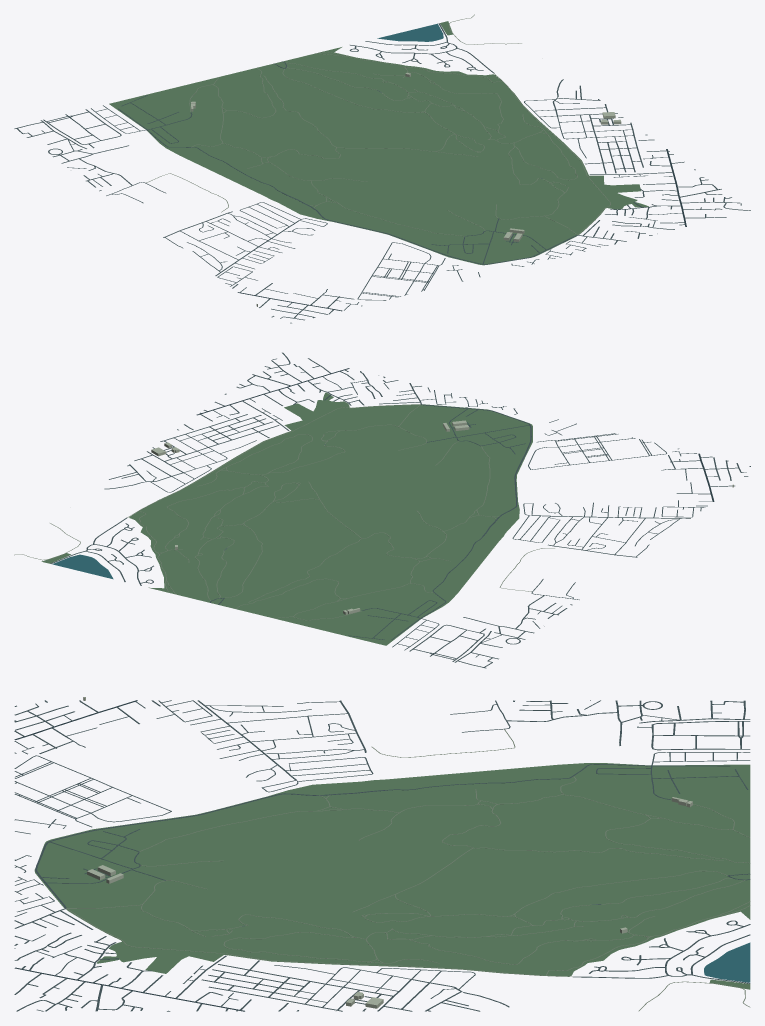
The picture shows the model from 3 angles, top to bottom: view 1: azimuth 30°, elevation 25°; view 2: azimuth 150°, elevation 25°; view 3: azimuth 270°, elevation 25°; orthographic projection. The views are drawn at different scales.
Visible parts, largest first — view 1: green, street, path, water; view 2: green, street, path, water; view 3: green, street, path, water, building, major.
Part boxes in pixels (left/top/right/bottom): green: left=109, top=21, right=648, bottom=265; street: left=14, top=23, right=750, bottom=323; path: left=146, top=14, right=610, bottom=236; water: left=377, top=23, right=443, bottom=41; green: left=41, top=392, right=532, bottom=645; street: left=50, top=352, right=750, bottom=668; path: left=14, top=404, right=554, bottom=620; water: left=52, top=554, right=113, bottom=579; green: left=34, top=763, right=750, bottom=989; street: left=14, top=700, right=750, bottom=1011; path: left=66, top=729, right=750, bottom=1011; water: left=704, top=942, right=750, bottom=982; building: left=83, top=697, right=692, bottom=1008; major: left=14, top=700, right=244, bottom=1011.
Size of the model in its own units: 2006 by 10.7 by 2004.
